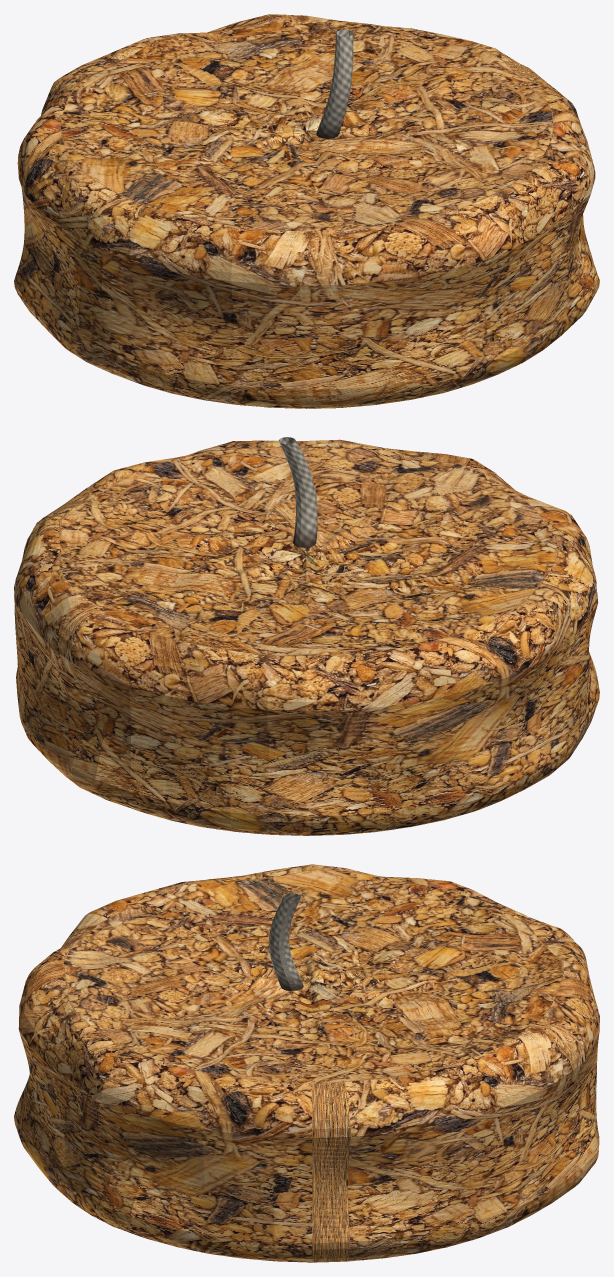
File: pastilla-biofuego.obj
The picture shows the model from 3 angles, top to bottom: view 1: azimuth 30°, elevation 25°; view 2: azimuth 150°, elevation 25°; view 3: azimuth 270°, elevation 25°; orthographic projection.
Parts seen in each view (by area): view 1: PastillaBiofuego; view 2: PastillaBiofuego; view 3: PastillaBiofuego.
Part boxes in pixels (bbox=[...]): PastillaBiofuego: bbox=[14, 14, 599, 408]; PastillaBiofuego: bbox=[14, 437, 599, 835]; PastillaBiofuego: bbox=[14, 864, 599, 1262].
Bounding box in the file's own units: 3.52 × 1.8 × 3.53.
Materials: 2 (2 with a texture image).
